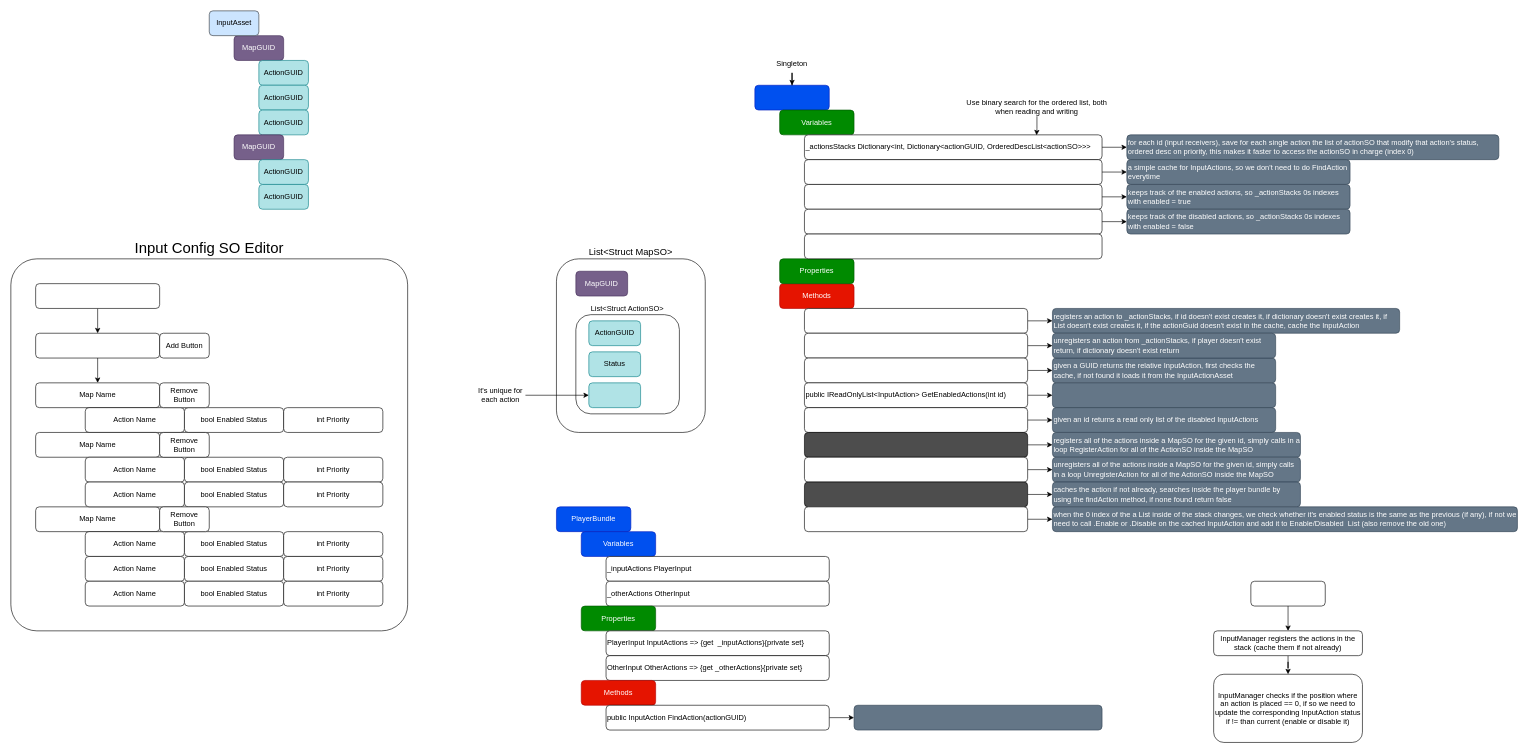
The diagram is 1528 pixels wide and 753 high, and some of its shapes have lost their labels. Each missing label, with the centre of its shape:
_actionsCache Dictionary<int, Dictionary<actionGUID, InputAction>>: the point at 953,171
_actionsDisabled Dictionary<int, List<InputAction>>: the point at 953,221
_actionsEnabled Dictionary<int, List<InputAction>>: the point at 953,196
_inputBundles Dictionary<int, InputBundle>: the point at 953,246
given an id returns a read only list of the enabled InputActions: the point at 1164,395
InputManager: the point at 791,97
Object Asks to put config: the point at 1287,593
Object Field InputAsset: the point at 97,295
PopUp Maps: the point at 97,345
Priority: the point at 614,395
private bool CacheAction(int id, actionGUID): the point at 916,494
private InputAction GetAction(actionGUID): the point at 916,370
private void SetActionActive(actionGUID): the point at 916,519
private void UnregisterActionMap(int id, MapSO mapData): the point at 916,469
public IReadOnlyList<InputAction> GetDisabledActions(int id): the point at 916,419
public void RegisterAction(int id, ActionSO actionData): the point at 916,320
public void RegistrActionMap(int id, MapSO mapData): the point at 916,444
public void UnregisterAction(int id, ActionSO actionData): the point at 916,345
Search in each InputActions to find the InputAction, if none return null: the point at 977,717
